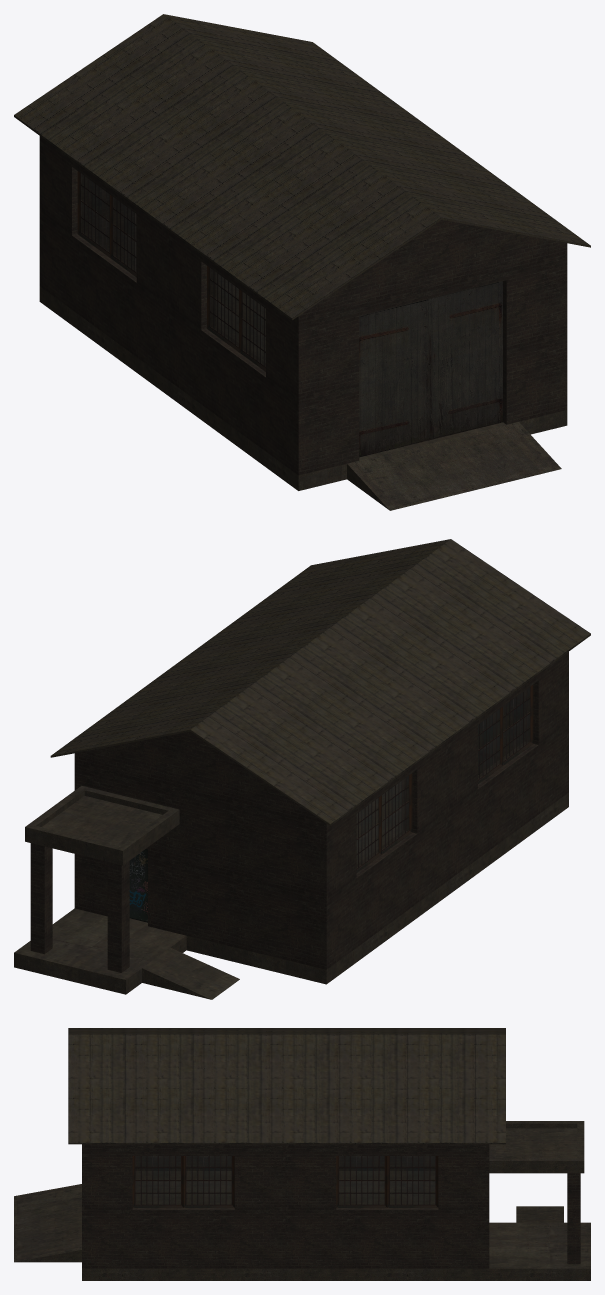
Rendered from warehouse_mx_2.obj.
3 views of the same model, one above another, from view 1: azimuth 30°, elevation 25°; view 2: azimuth 150°, elevation 25°; view 3: azimuth 270°, elevation 25° (orthographic). The views are drawn at different scales.
Visible parts, largest first — view 1: warehouse_mx_2, garage_door_hr_3_piece_2, garage_door_hr_3_piece_1; view 2: warehouse_mx_2, door_hr_9, garage_door_hr_3_piece_1; view 3: warehouse_mx_2.
Part boxes in pixels (<box>): warehouse_mx_2: <box>14,14,590,510</box>; garage_door_hr_3_piece_2: <box>429,281,502,439</box>; garage_door_hr_3_piece_1: <box>359,299,429,457</box>; warehouse_mx_2: <box>14,539,590,999</box>; door_hr_9: <box>129,849,147,922</box>; garage_door_hr_3_piece_1: <box>478,706,503,774</box>; warehouse_mx_2: <box>14,1028,590,1280</box>.
Bounding box in the file's own units: 8 × 6.32 × 17.
